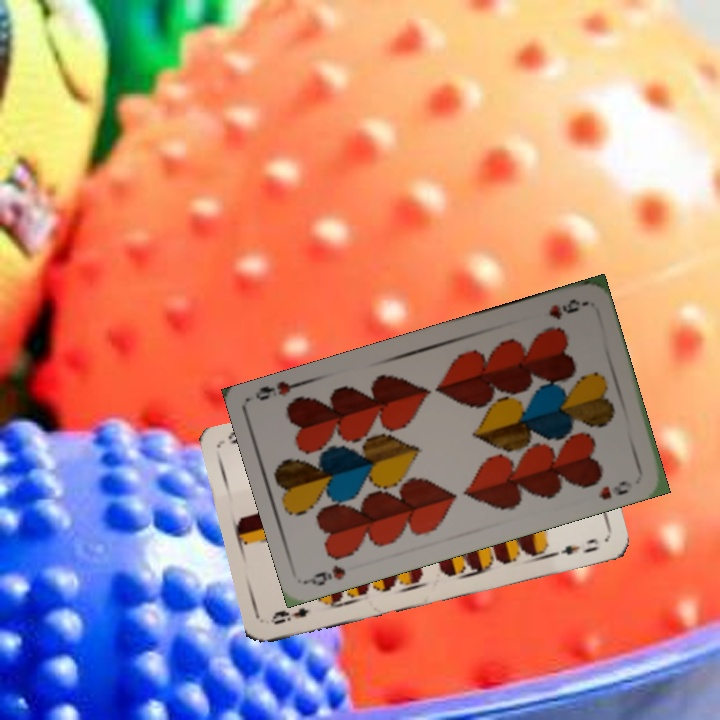E9: (266, 603, 312, 628)
H9: (305, 560, 348, 589), (545, 294, 587, 323)
